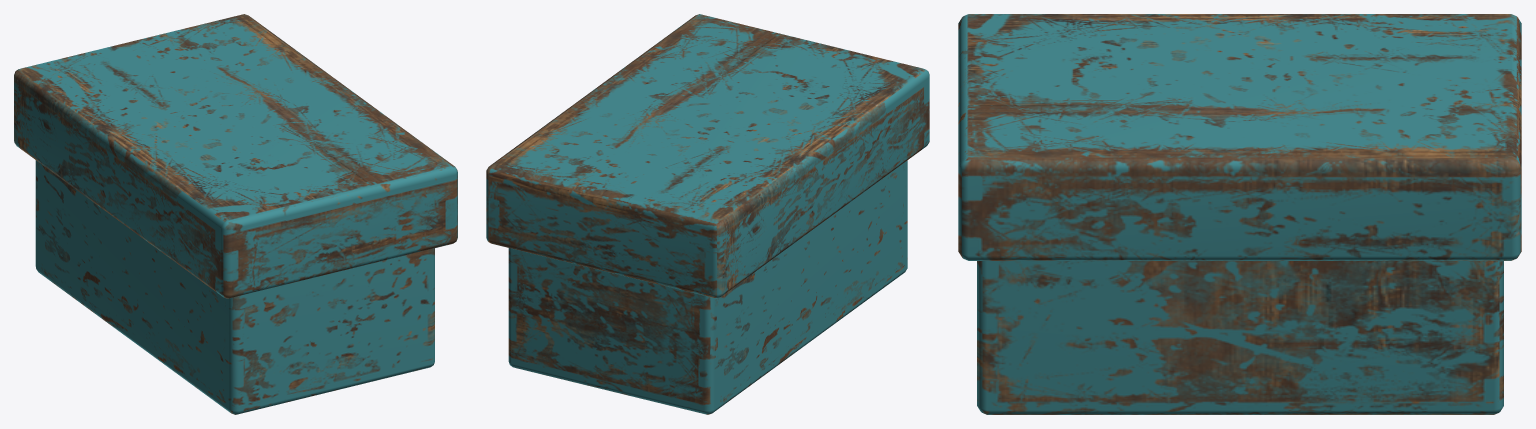
File: box-wood.glb
3 renders of one model, left to right at view 1: azimuth 30°, elevation 25°; view 2: azimuth 150°, elevation 25°; view 3: azimuth 270°, elevation 25°, orthographic. The views are drawn at different scales.
Parts seen in each view (by area): view 1: Object_2; view 2: Object_2; view 3: Object_2.
Part boxes in pixels (<box>): Object_2: <box>14,14,457,414</box>; Object_2: <box>486,14,929,414</box>; Object_2: <box>958,14,1521,414</box>.
Bounding box in the file's own units: 0.3519 × 0.2895 × 0.5516.
Materials: 1 (1 with a texture image).
